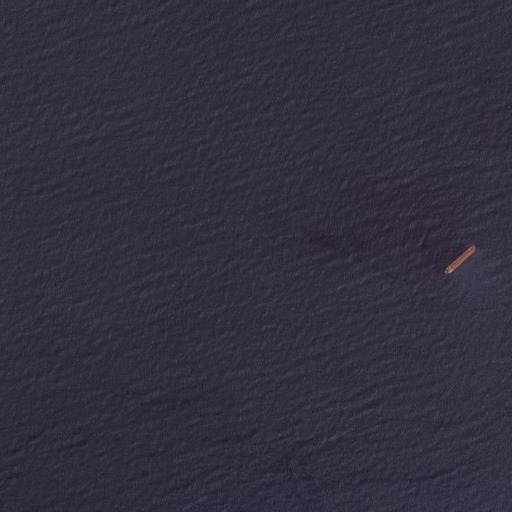ship: (442, 243, 479, 277)
